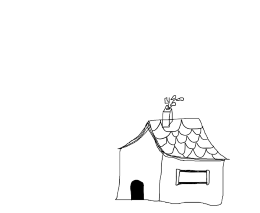bottom_placed_house: (0, 0, 260, 213)
chimney: (155, 92, 187, 128)
door: (126, 173, 150, 204)
open_window: (171, 166, 214, 193)
roof: (114, 114, 232, 164)
small_house: (2, 1, 260, 213)
wall: (156, 146, 228, 208)
